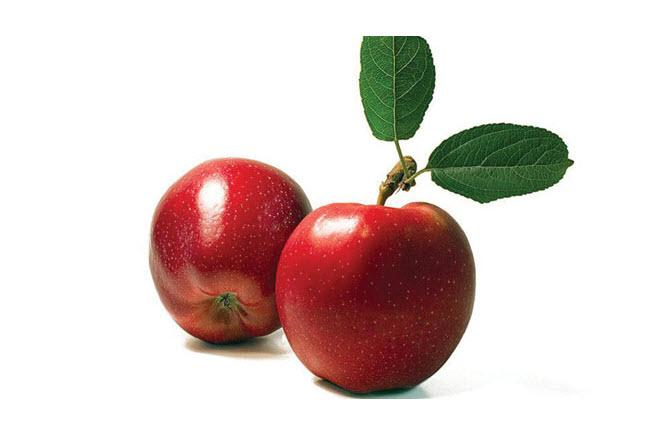apples: (287, 71, 489, 388), (129, 105, 310, 379)
